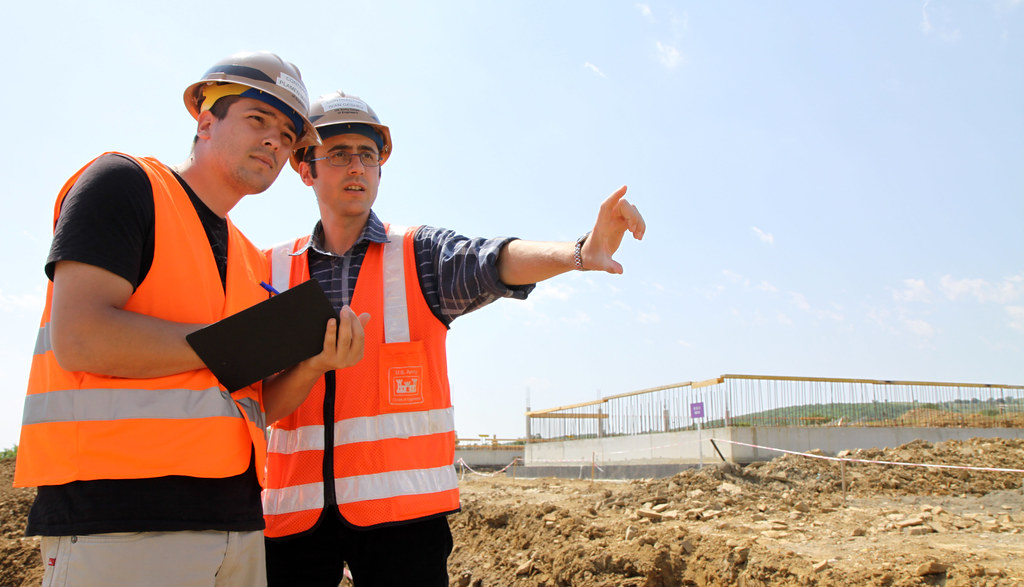Hard Hat: (181, 45, 321, 197), (303, 95, 394, 222)
Person: (267, 95, 642, 586), (7, 31, 324, 587)
Vest: (10, 102, 289, 492), (262, 143, 462, 537)
